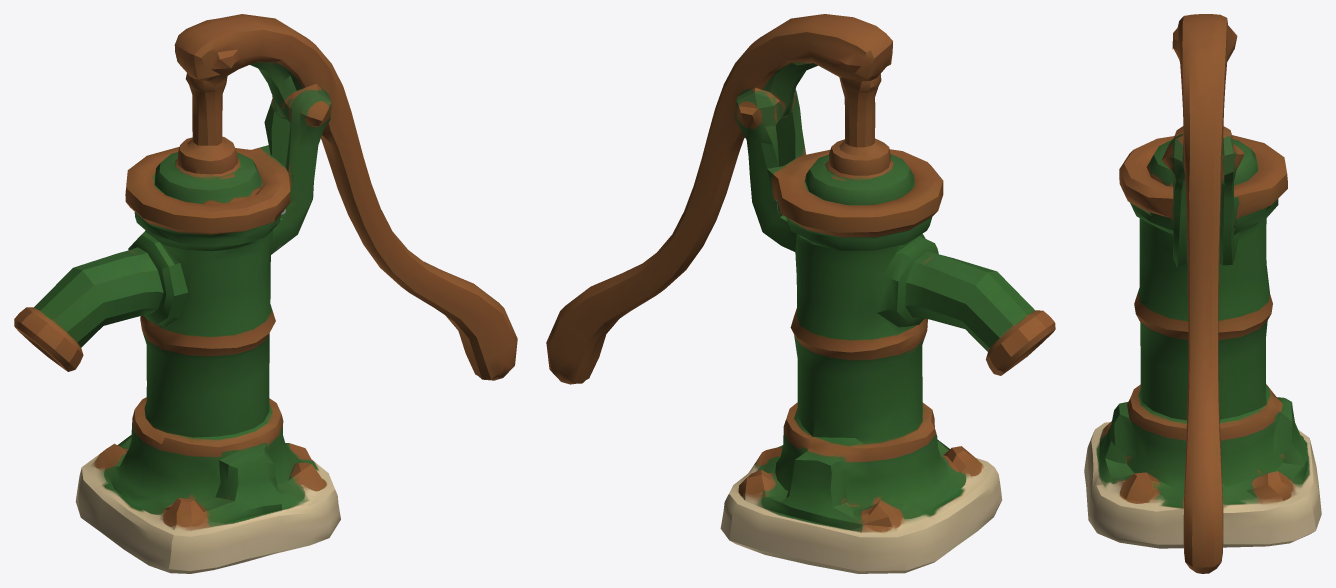
Rendered from Manor_HandWaterPump_01.glb.
The picture shows the model from 3 angles, left to right: view 1: azimuth 30°, elevation 25°; view 2: azimuth 150°, elevation 25°; view 3: azimuth 270°, elevation 25°; orthographic projection.
Visible parts, largest first — view 1: Manor_HandWaterPump_01.001; view 2: Manor_HandWaterPump_01.001; view 3: Manor_HandWaterPump_01.001.
Part boxes in pixels (bbox=[...]): Manor_HandWaterPump_01.001: bbox=[14, 14, 517, 573]; Manor_HandWaterPump_01.001: bbox=[546, 14, 1055, 573]; Manor_HandWaterPump_01.001: bbox=[1084, 14, 1321, 573].
Bounding box in the file's own units: 1 × 0.9505 × 0.4213.
Materials: 1 (1 with a texture image).
